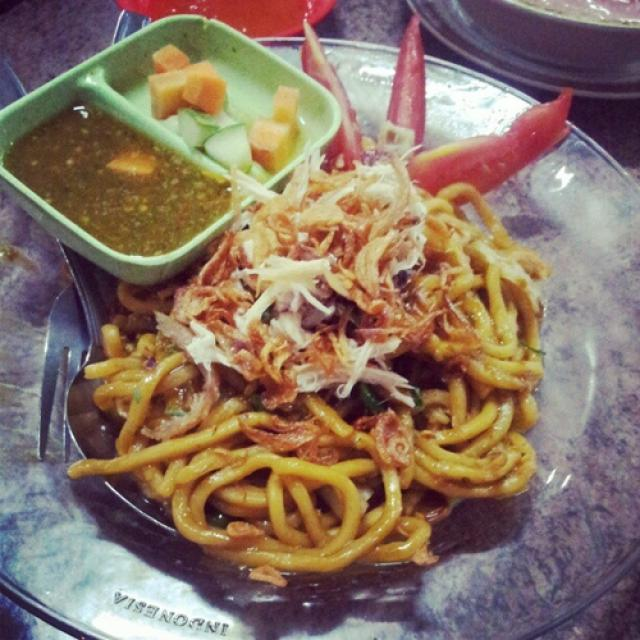面条主食: (32, 28, 576, 621)
